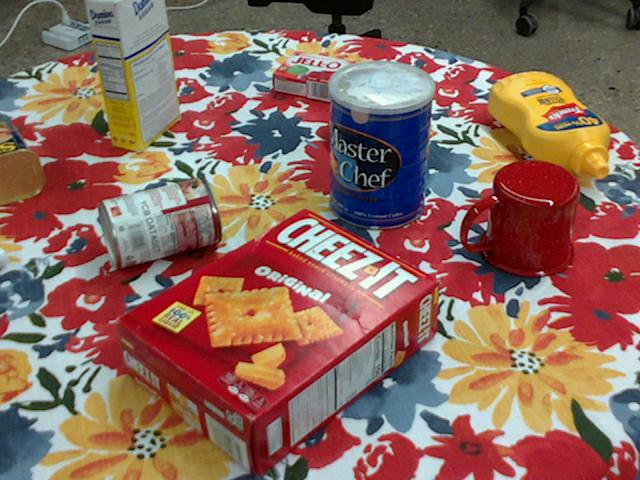cracker_box: (113, 210, 437, 478)
gelatin_box: (269, 53, 354, 105)
large_marker: (0, 247, 7, 266)
master_chef_can: (328, 61, 434, 231)
mug: (462, 160, 579, 278)
mustard_bottle: (486, 71, 608, 178)
potted_meat_can: (0, 121, 43, 204)
sugar_box: (86, 0, 179, 150)
tomato_soup_can: (95, 176, 220, 268)
tuna_fish_can: (330, 95, 403, 153)
